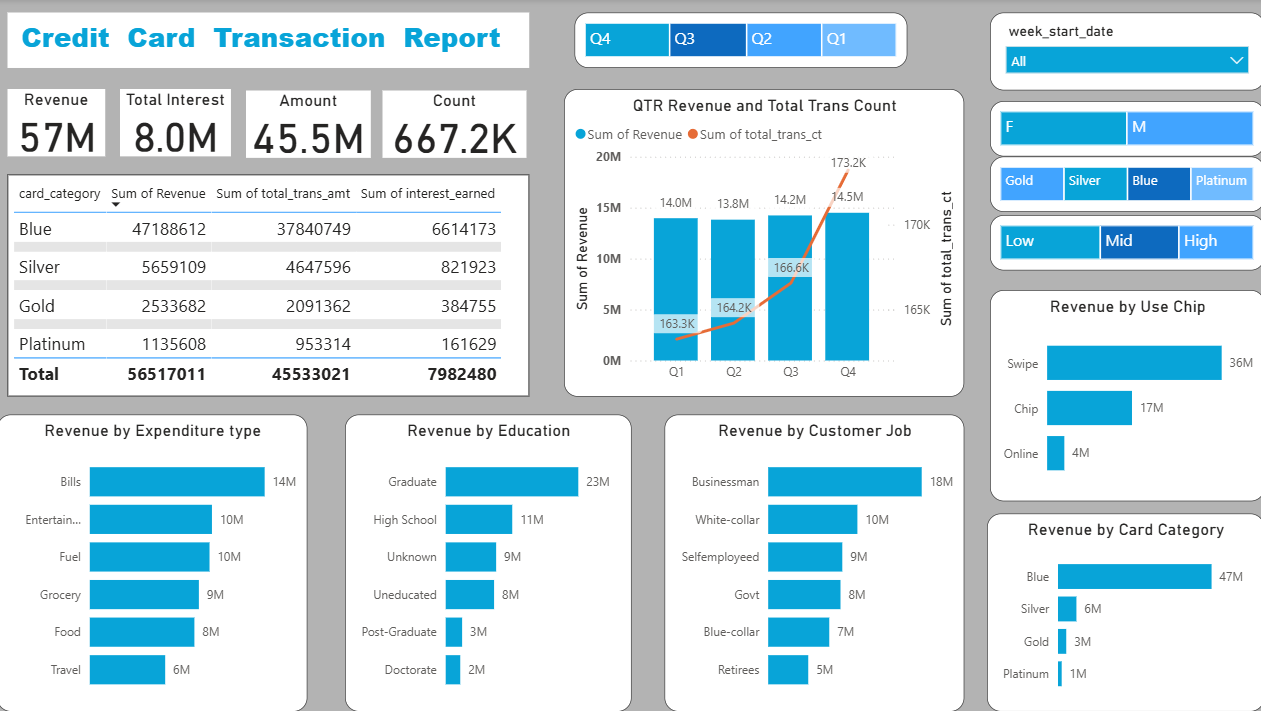

The page's visual inventory and layout, read from the dashboard file:
{"tool":"powerbi","page":{"name":"CC Transaction ","canvas":[1280,720],"ordinal":0},"visuals":[{"type":"textbox","box":[10.6,13.6,526.9,56],"z":0},{"type":"lineStackedColumnComboChart","title":"QTR Revenue and Total Trans Count","fields":{"Category":["public cc_detail.qtr"],"Y":["Sum(public cc_detail.Revenue)"],"Y2":["Sum(public cc_detail.total_trans_ct)"]},"box":[572.4,90.9,404.3,310.4],"z":1000},{"type":"barChart","title":"Revenue by Expenditure type","fields":{"Category":["public cc_detail.exp_type"],"Y":["Sum(public cc_detail.Revenue)"]},"box":[0,419.4,313.4,299.8],"z":2000},{"type":"barChart","title":"Revenue by Education","fields":{"Category":["public cust_detail.education_level"],"Y":["Sum(public cc_detail.Revenue)"]},"box":[351.3,419.4,289.2,299.8],"z":3000},{"type":"barChart","title":"Revenue by Customer Job","fields":{"Category":["public cust_detail.customer_job"],"Y":["Sum(public cc_detail.Revenue)"]},"box":[673.8,419.4,302.8,299.8],"z":4000},{"type":"barChart","title":"Revenue by Card Category","fields":{"Category":["public cc_detail.card_category"],"Y":["Sum(public cc_detail.Revenue)"]},"box":[999.4,519.4,280.1,199.9],"z":5000},{"type":"barChart","title":"Revenue by Use Chip","fields":{"Category":["public cc_detail.use_chip"],"Y":["Sum(public cc_detail.Revenue)"]},"box":[1002.4,293.8,277.1,213.5],"z":6000},{"type":"tableEx","fields":{"Values":["public cc_detail.card_category","Sum(public cc_detail.Revenue)","Sum(public cc_detail.total_trans_amt)","Sum(public cc_detail.interest_earned)"]},"box":[10.6,177.2,526.9,224.1],"z":7000},{"type":"card","title":"Revenue","fields":{"Values":["Sum(public cc_detail.Revenue)"]},"box":[10.6,90.9,98.4,68],"z":8000},{"type":"card","title":"Amount","fields":{"Values":["Sum(public cc_detail.total_trans_amt)"]},"box":[251.4,92.4,125.7,68.1],"z":9000},{"type":"card","title":"Total Interest","fields":{"Values":["Sum(public cc_detail.interest_earned)"]},"box":[124.2,90.9,112.1,68],"z":10000},{"type":"card","title":"Count","fields":{"Values":["Sum(public cc_detail.total_trans_ct)"]},"box":[389.2,92.4,145.4,68],"z":11000},{"type":"slicer","fields":{"Values":["public cc_detail.week_start_date"]},"box":[1002.4,13.6,277.1,78.7],"z":12000},{"type":"treemap","fields":{"Group":["public cc_detail.qtr"],"Values":["Avg(public cc_detail.client_num)"]},"box":[583,13.6,336.2,56],"z":13000},{"type":"treemap","fields":{"Group":["public cust_detail.gender"],"Values":["Avg(public cc_detail.client_num)"]},"box":[1002.4,103,277.1,56],"z":14000},{"type":"treemap","fields":{"Group":["public cc_detail.card_category"],"Values":["Avg(public cc_detail.client_num)"]},"box":[1002.4,159,277.1,56],"z":15000},{"type":"treemap","fields":{"Group":["public cust_detail.IncomeGroup"],"Values":["CountNonNull(public cc_detail.client_num)"]},"box":[1002.4,218,277.1,56],"z":16000}]}

Visuals, with their boxes in screenshot pixels (x1, y1, x2, y2), scaled from the page's 1280x720 canvas onto the 1261x711 screenshot:
textbox: x1=10 y1=13 x2=530 y2=69
"QTR Revenue and Total Trans Count" lineStackedColumnComboChart: x1=564 y1=90 x2=962 y2=396
"Revenue by Expenditure type" barChart: x1=0 y1=414 x2=309 y2=710
"Revenue by Education" barChart: x1=346 y1=414 x2=631 y2=710
"Revenue by Customer Job" barChart: x1=664 y1=414 x2=962 y2=710
"Revenue by Card Category" barChart: x1=985 y1=513 x2=1260 y2=710
"Revenue by Use Chip" barChart: x1=988 y1=290 x2=1260 y2=501
tableEx - public cc_detail.card_category x Sum(public cc_detail.Revenue): x1=10 y1=175 x2=530 y2=396
"Revenue" card: x1=10 y1=90 x2=107 y2=157
"Amount" card: x1=248 y1=91 x2=372 y2=158
"Total Interest" card: x1=122 y1=90 x2=233 y2=157
"Count" card: x1=383 y1=91 x2=527 y2=158
slicer - public cc_detail.week_start_date: x1=988 y1=13 x2=1260 y2=91
treemap - public cc_detail.qtr x Avg(public cc_detail.client_num): x1=574 y1=13 x2=906 y2=69
treemap - public cust_detail.gender x Avg(public cc_detail.client_num): x1=988 y1=102 x2=1260 y2=157
treemap - public cc_detail.card_category x Avg(public cc_detail.client_num): x1=988 y1=157 x2=1260 y2=212
treemap - public cust_detail.IncomeGroup x CountNonNull(public cc_detail.client_num): x1=988 y1=215 x2=1260 y2=271
